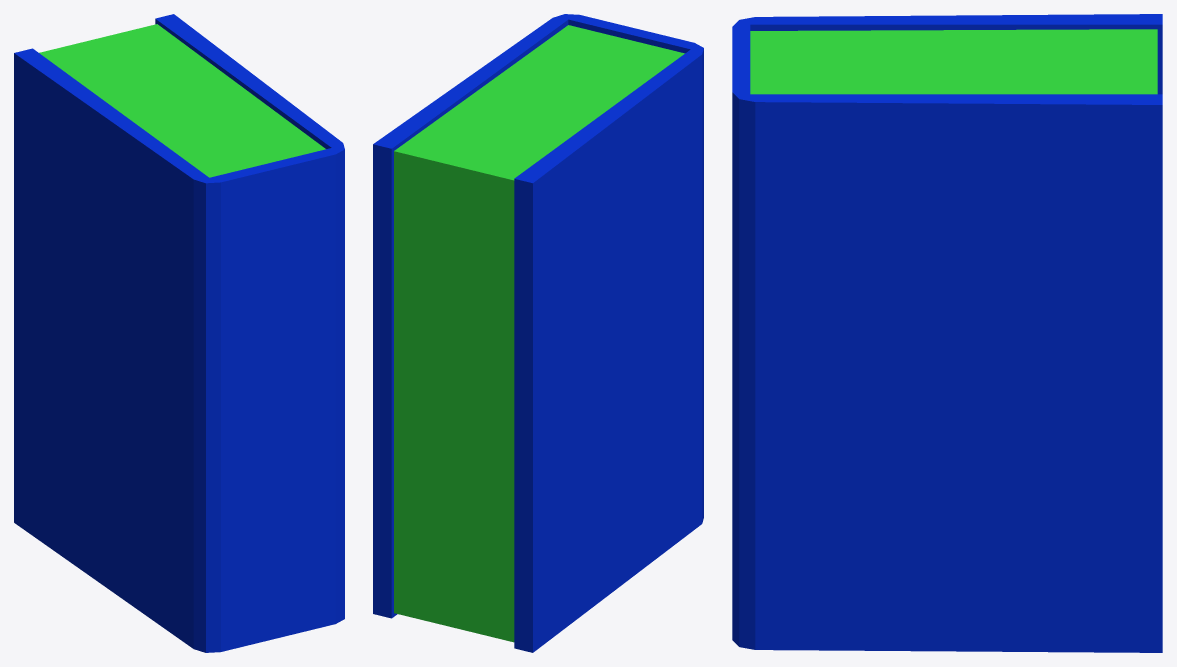
File: office book.fbx
The picture shows the model from 3 angles, left to right: view 1: azimuth 30°, elevation 25°; view 2: azimuth 150°, elevation 25°; view 3: azimuth 270°, elevation 25°; orthographic projection. The views are drawn at different scales.
Visible parts, largest first — view 1: Cube; view 2: Cube; view 3: Cube.
Boxes of the visible parts, x1=… form: Cube: x1=14, y1=14, x2=344, y2=652; Cube: x1=373, y1=14, x2=703, y2=652; Cube: x1=732, y1=14, x2=1162, y2=652.
Bounding box in the file's own units: 7.84 × 22 × 15.65.
